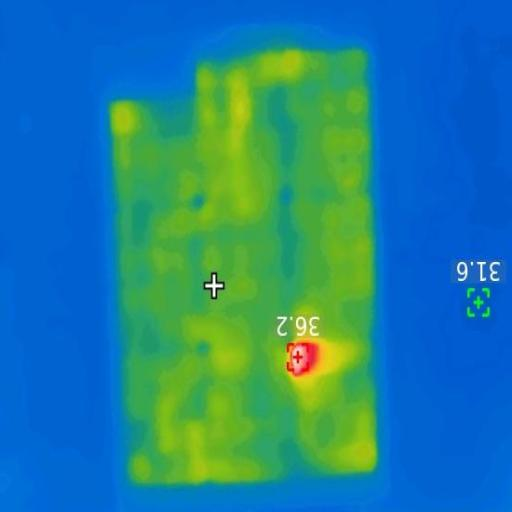hotspot: (282, 336, 328, 388)
